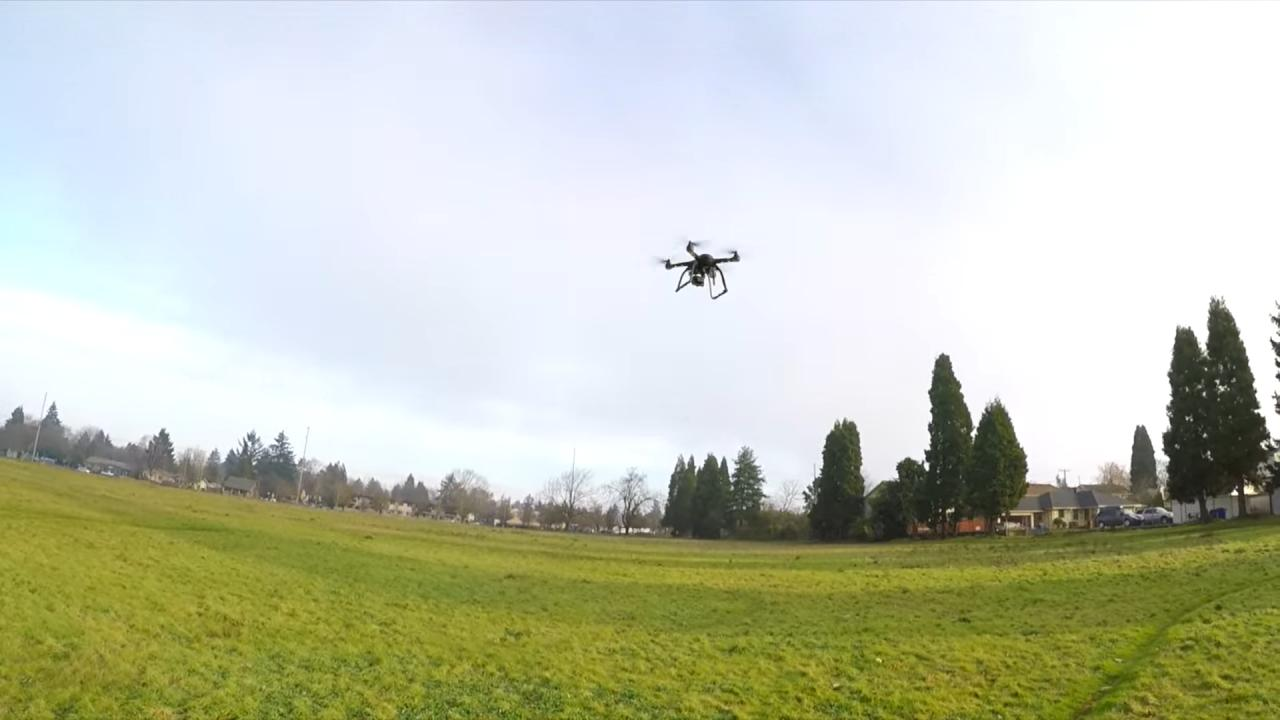Drone: (646, 231, 754, 313)
